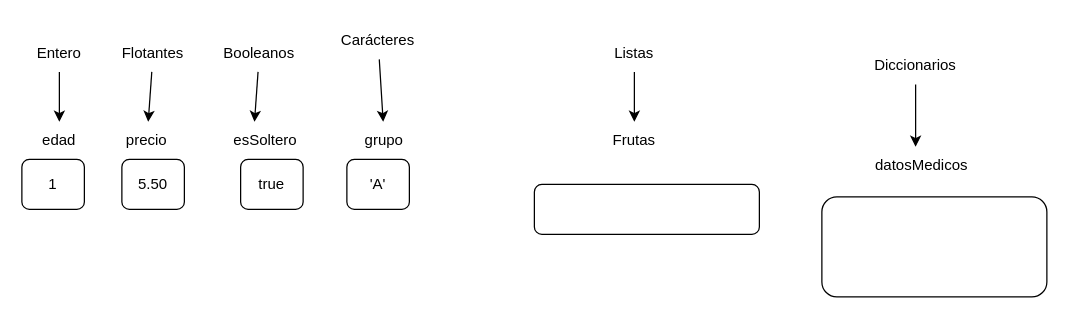
Image size: 1069x319. Some labels were removed from this diagram. The centre of each missing label's shape, as x and y in pixels:
["Manzana", "Plátano", 2]: (646,208)
{"fecha": "22/02/2022", "medicamentos": [parasetamol, otros]}: (934,246)
